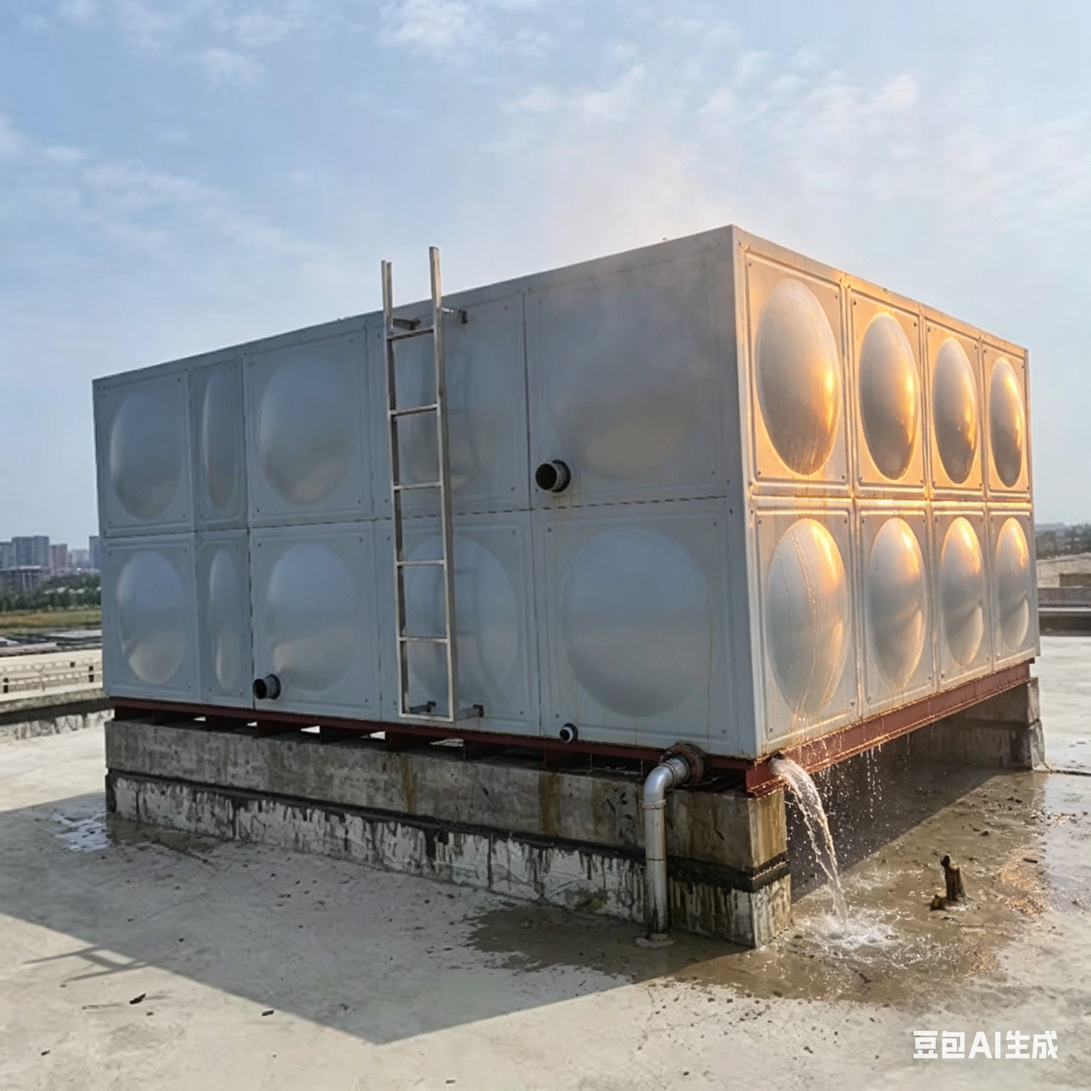Leakage: (754, 754, 913, 997), (499, 906, 744, 991)
